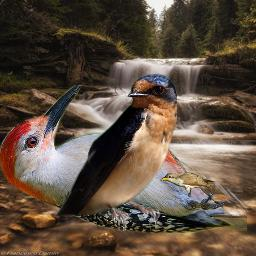Cuckoo: (160, 172, 216, 198)
Swallow: (55, 73, 177, 231)
Woodpecker: (0, 85, 247, 234)
